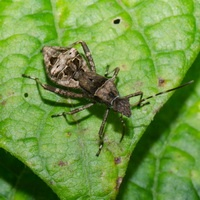insect: (22, 40, 192, 156)
